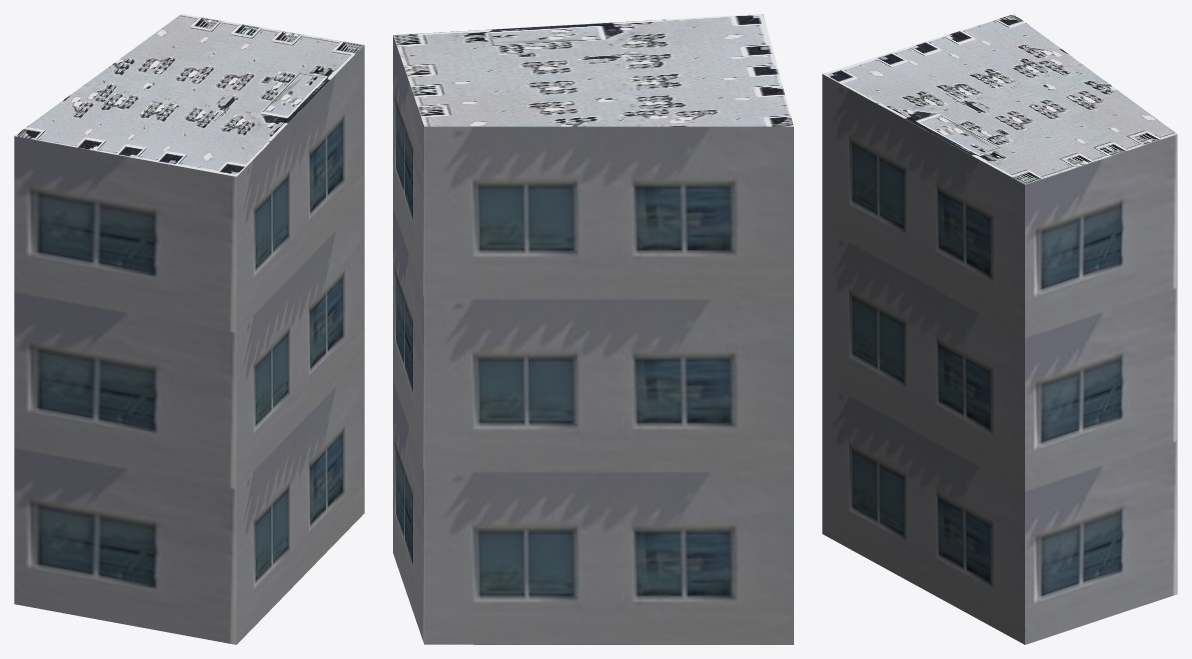
Rendered from ResTex__1440.fbx.
3 views of the same model, side by side, from view 1: azimuth 30°, elevation 25°; view 2: azimuth 150°, elevation 25°; view 3: azimuth 270°, elevation 25° (orthographic). The views are drawn at different scales.
Visible parts, largest first — view 1: CityEngineMaterial_10_m, CityEngineMaterial_2_m; view 2: CityEngineMaterial_10_m, CityEngineMaterial_2_m; view 3: CityEngineMaterial_10_m, CityEngineMaterial_2_m.
Part boxes in pixels (x1,y1,x2,y2): CityEngineMaterial_10_m: (14, 45, 364, 644); CityEngineMaterial_2_m: (15, 14, 364, 176); CityEngineMaterial_10_m: (393, 35, 793, 644); CityEngineMaterial_2_m: (393, 14, 793, 126); CityEngineMaterial_10_m: (822, 74, 1177, 644); CityEngineMaterial_2_m: (823, 14, 1177, 184).
Bounding box in the file's own units: 7.17 × 9 × 6.3.
2 materials, 2 textured.
